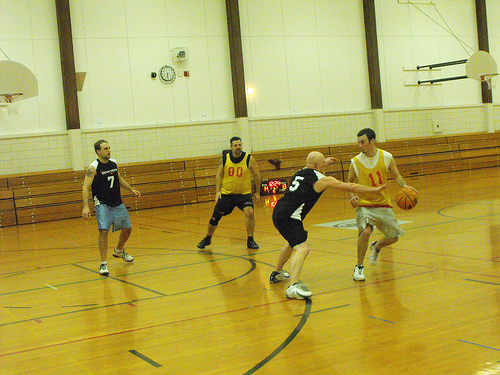basketball: (396, 187, 418, 211)
